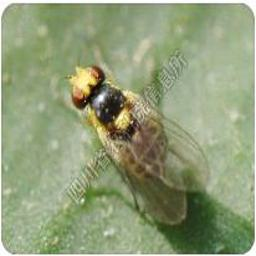liriomyza: (60, 58, 211, 226)
